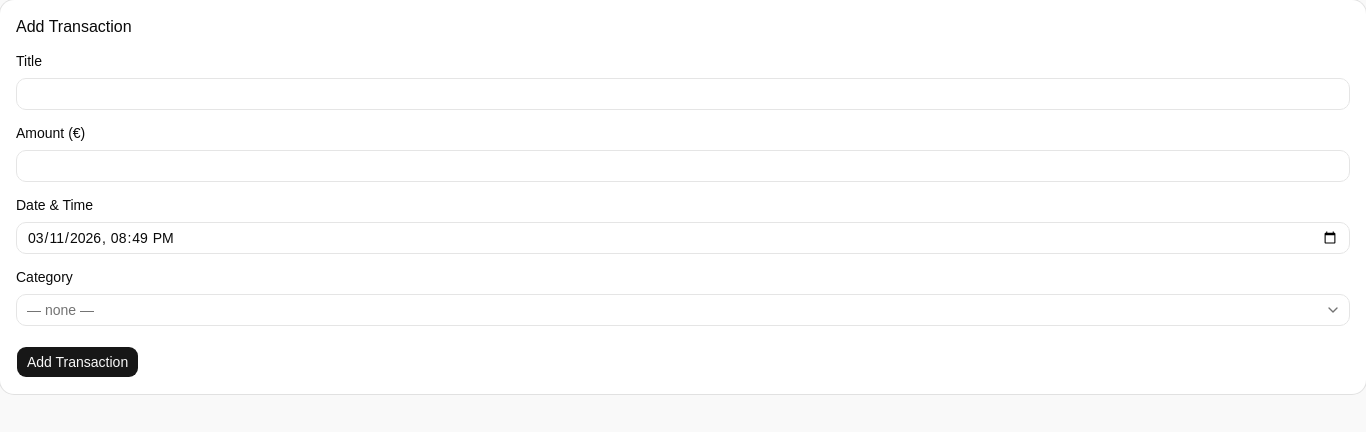
Test case: given the form is submitted without filling the title › should show a 'Title is required' error
This screenshot has width=1366, height=432.
Step 1. Type "1000" into the number field labelled "Amount (€)" → (683, 166), box [16,150,1350,182]
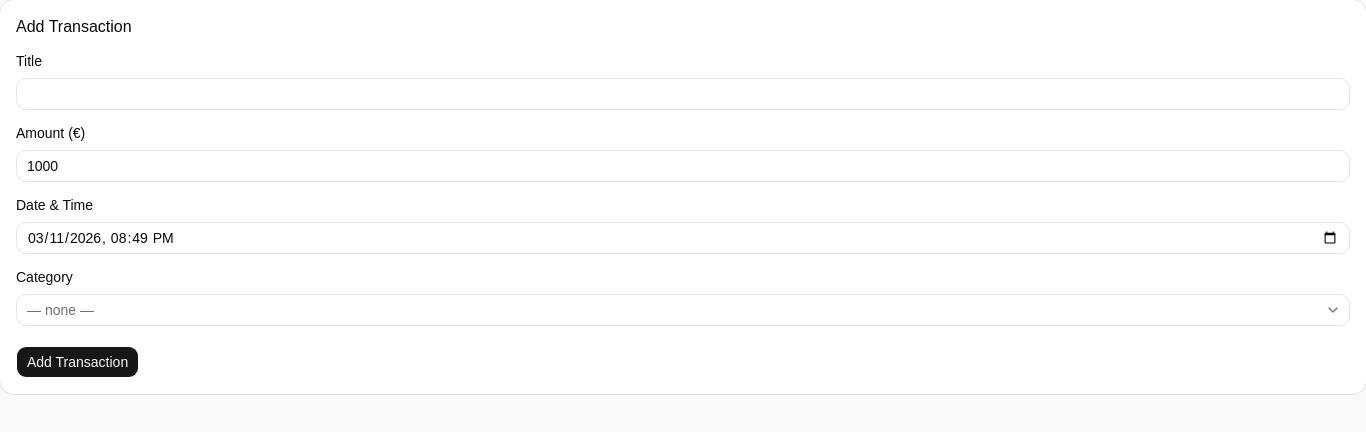
Step 2. Click the button "Add Transaction" → (78, 362), box [16,346,139,378]
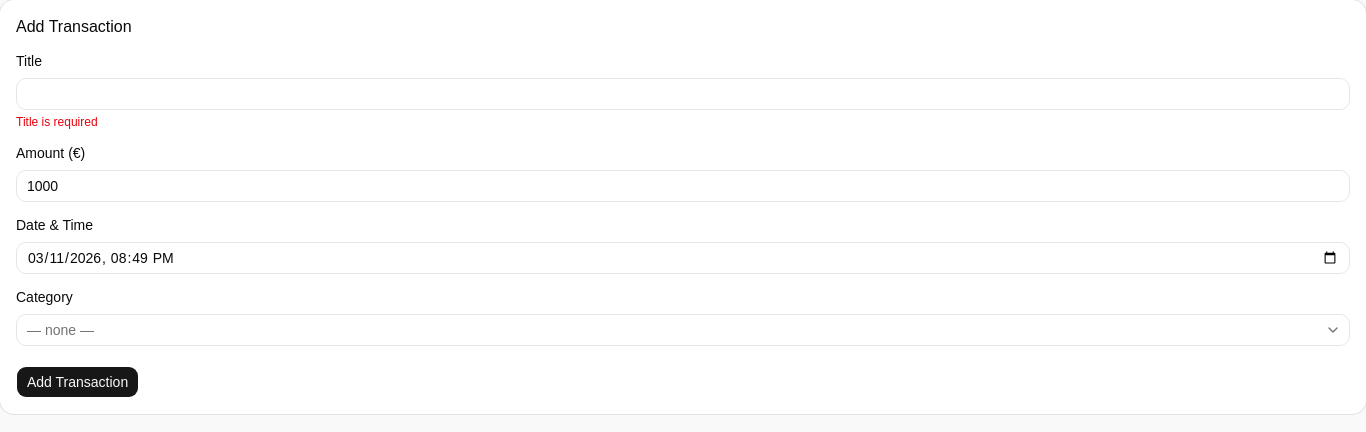
Now the text "Title is required" is shown, box [16,115,98,129]
